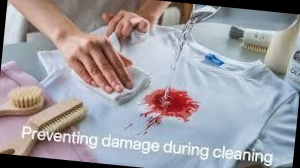blood: (143, 87, 199, 123)
